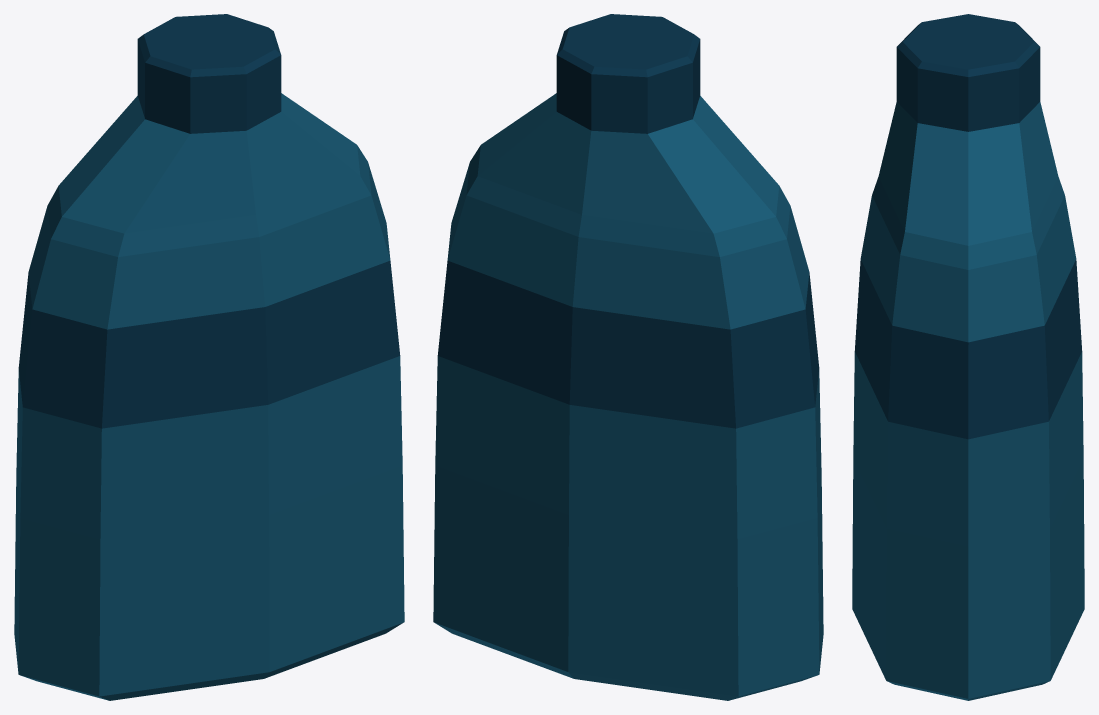
The model's file is Canteen.fbx.
The picture shows the model from 3 angles, left to right: view 1: azimuth 30°, elevation 25°; view 2: azimuth 150°, elevation 25°; view 3: azimuth 270°, elevation 25°; orthographic projection. The views are drawn at different scales.
Parts seen in each view (by area): view 1: Canteen; view 2: Canteen; view 3: Canteen.
Part boxes in pixels (box(x1,y1,x2,y2)): Canteen: box(14, 14, 404, 700); Canteen: box(433, 14, 823, 700); Canteen: box(852, 14, 1084, 700).
Bounding box in the file's own units: 0.304 × 0.4544 × 0.1658.
